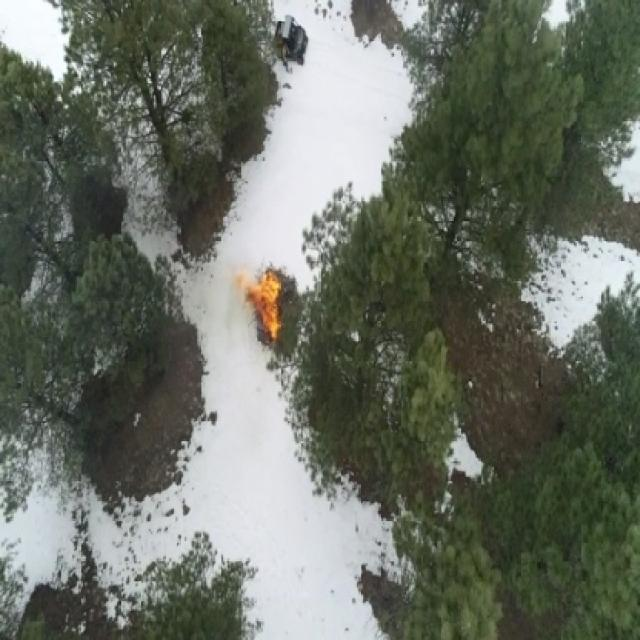Fire: (234, 266, 283, 343)
